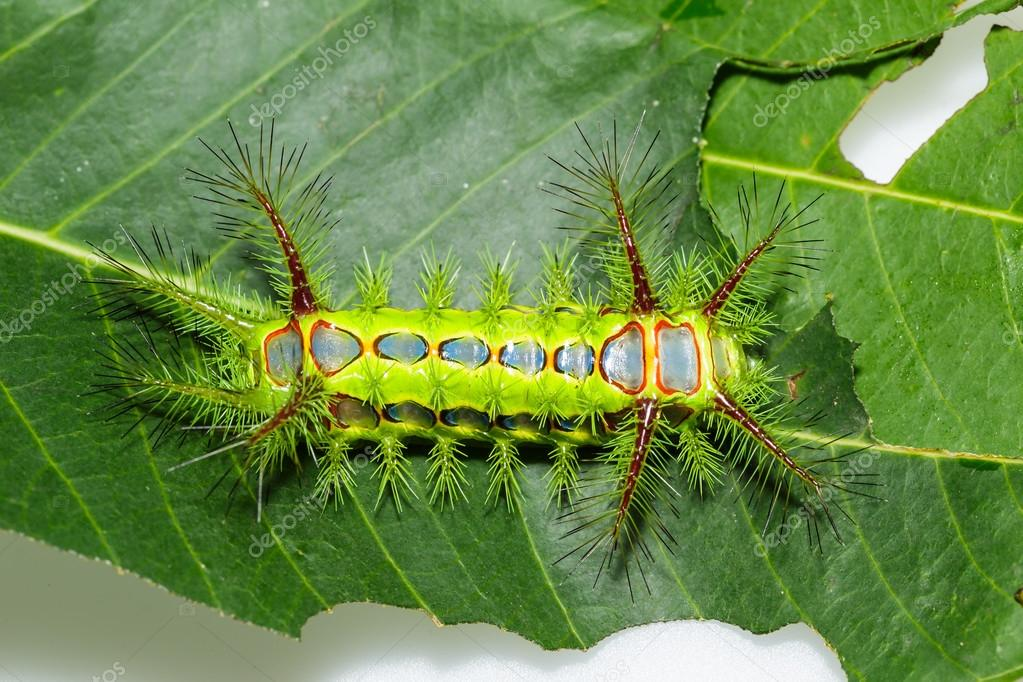Pest! (nettle_caterpillar): (119, 134, 866, 535)
